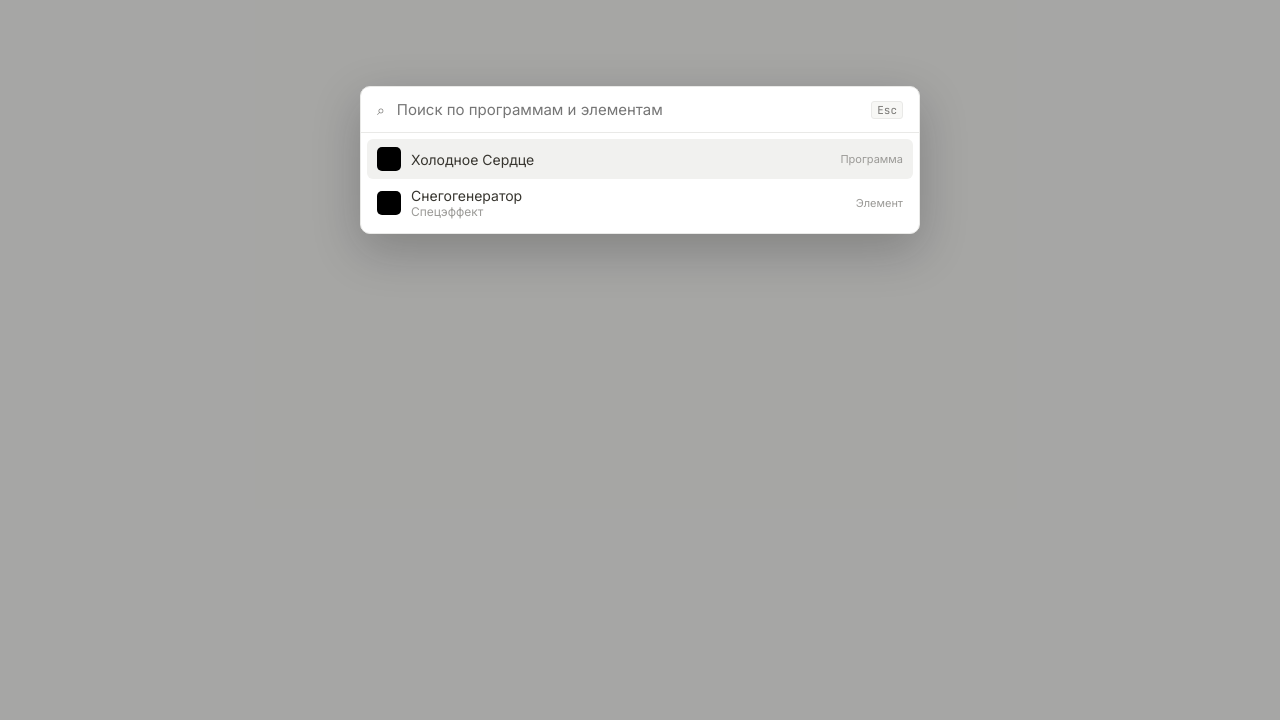
Test: SearchOverlay › filters instantly as you type
This screenshot has width=1280, height=720.
Step 1. Type "снег" into the search field labelled "Поиск по программам и элементам" → [628, 110], box [395, 99, 861, 120]
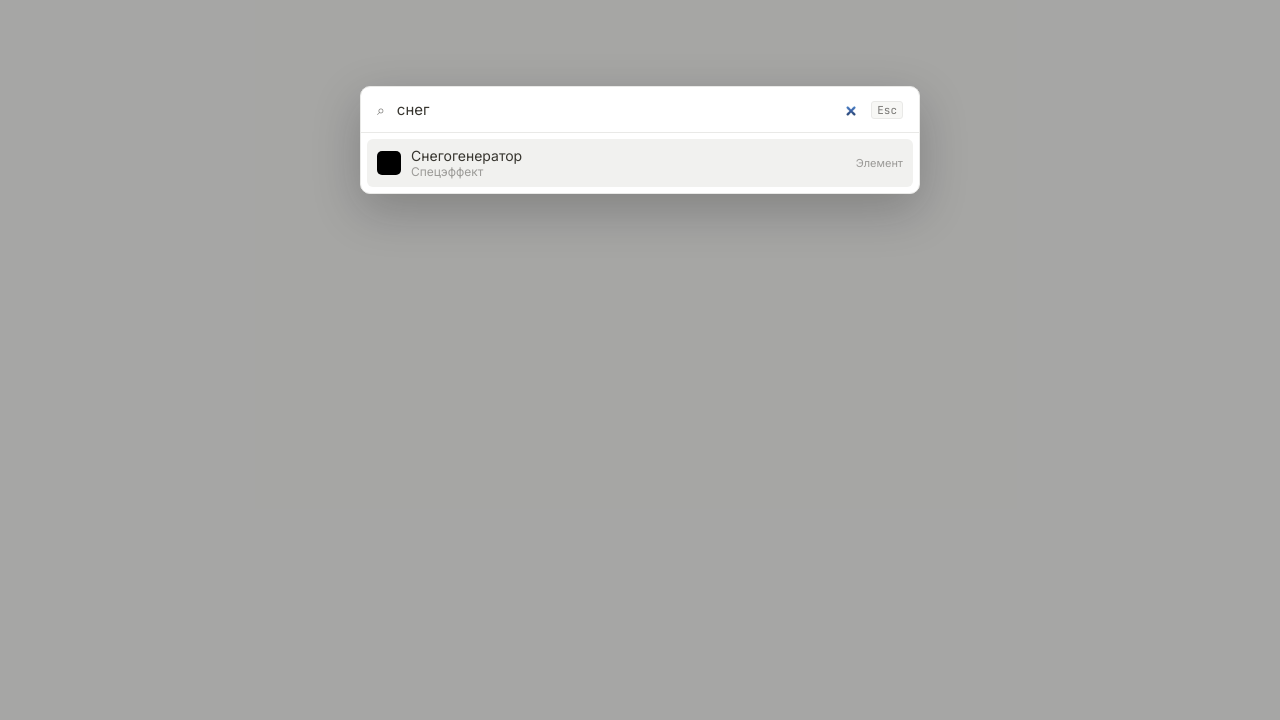
Expected: the button with class "search-result" shows "Снегогенератор", [367, 139, 913, 187]
Expected: the number of buttons with class "search-result" is 1, [367, 139, 913, 187]
